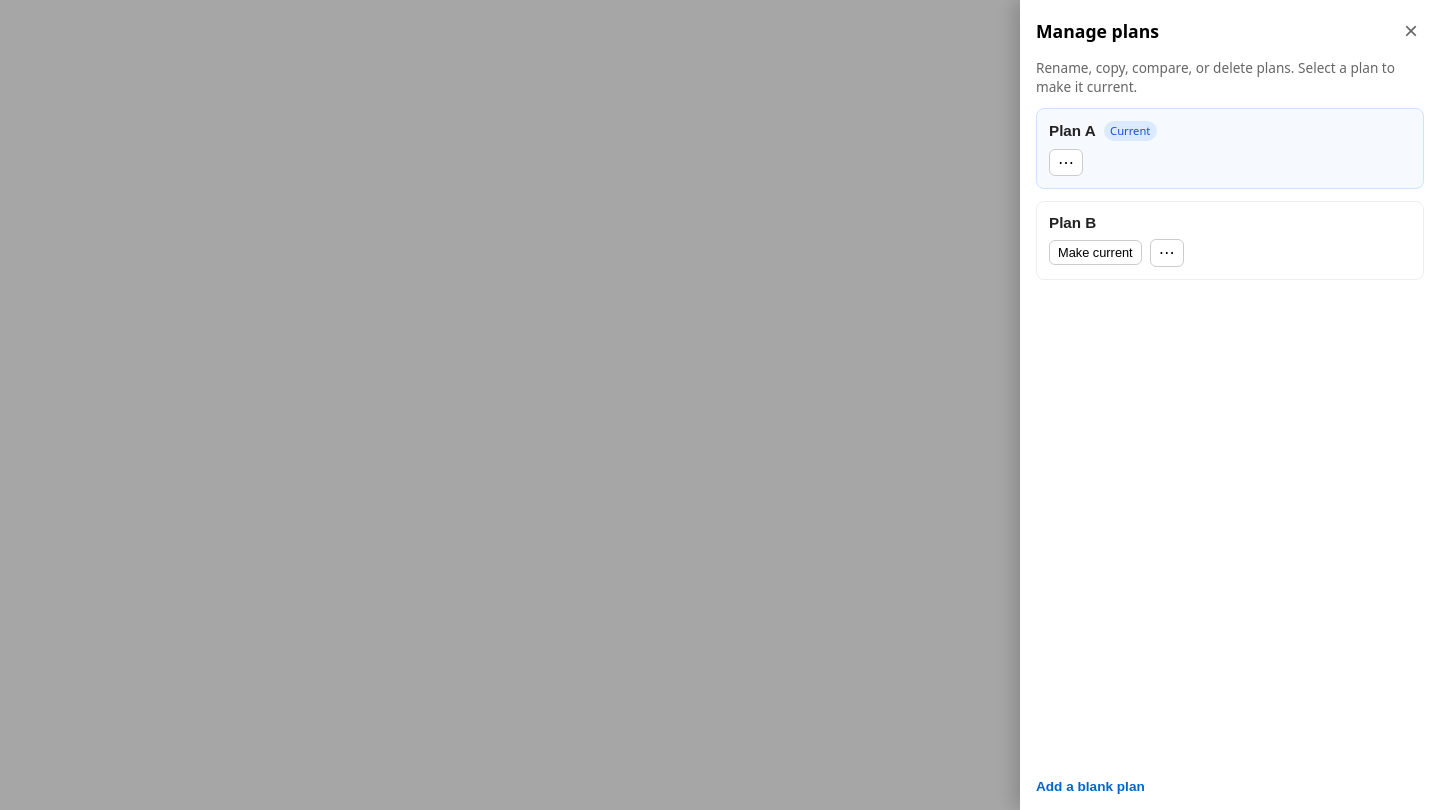
it: ManagePlansPanel › closes the action menu on scroll
Click the button named "plan actions for plan a" at (1066,162), box [1049,149,1083,176]
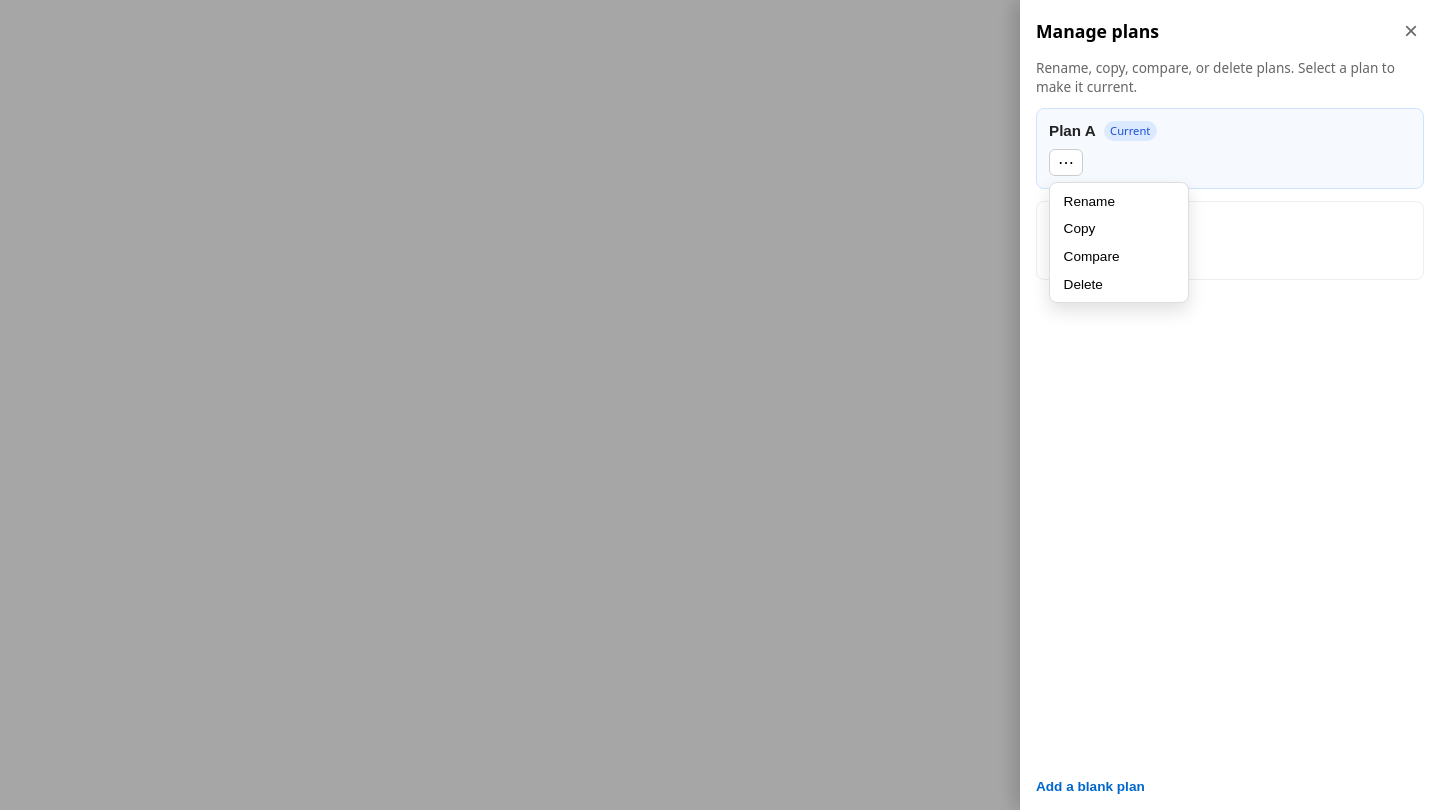
Check: the menu is shown, box [1049,182,1189,303]
